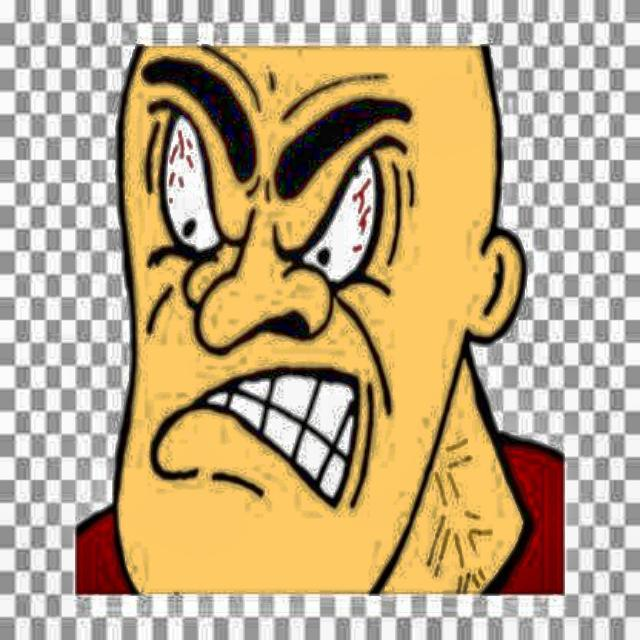angry: (76, 52, 565, 598)
